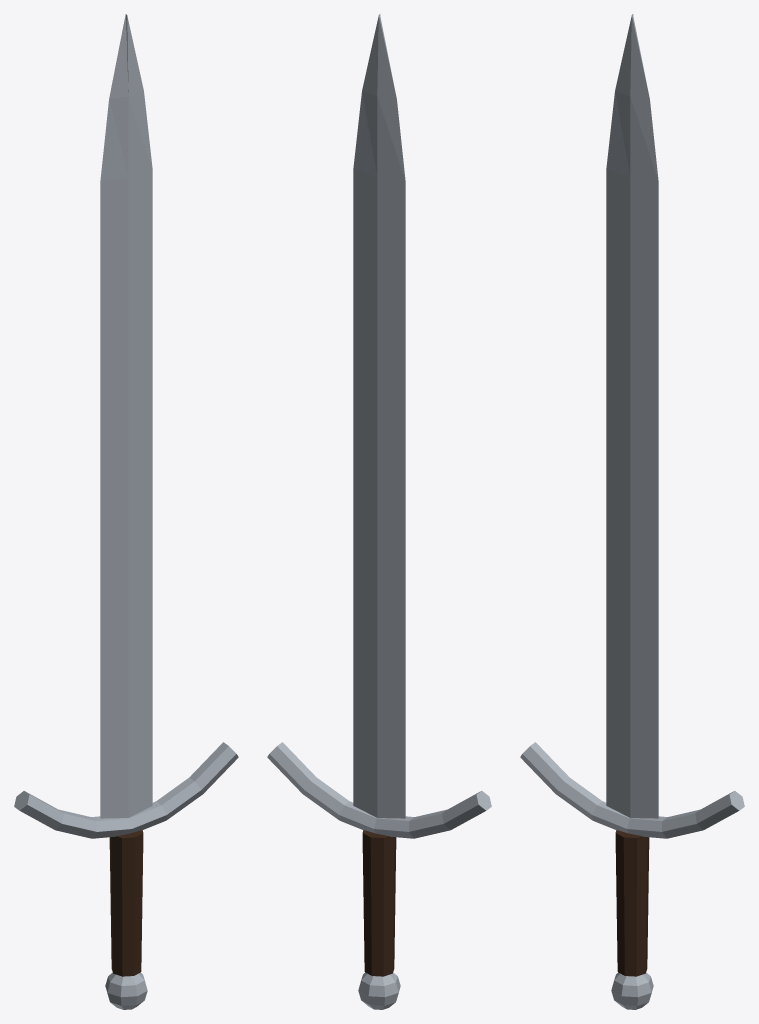
File: g-longsword-knight.glb
3 renders of one model, left to right at view 1: azimuth 30°, elevation 25°; view 2: azimuth 150°, elevation 25°; view 3: azimuth 330°, elevation 25°, orthographic.
Visible parts, largest first — view 1: g-longsword-knight; view 2: g-longsword-knight; view 3: g-longsword-knight.
Part boxes in pixels (x1,y1,x2,y2): g-longsword-knight: [14, 14, 238, 1009]; g-longsword-knight: [267, 14, 491, 1009]; g-longsword-knight: [520, 14, 744, 1009].
Size of the model in its own units: 0.2305 by 0.9953 by 0.04.
